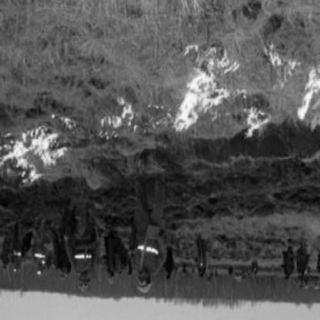Fire: (3, 110, 77, 191)
